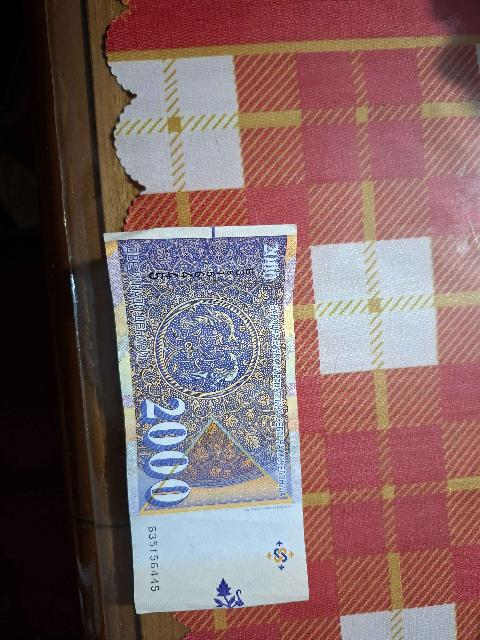2000_note: (106, 226, 307, 612)
